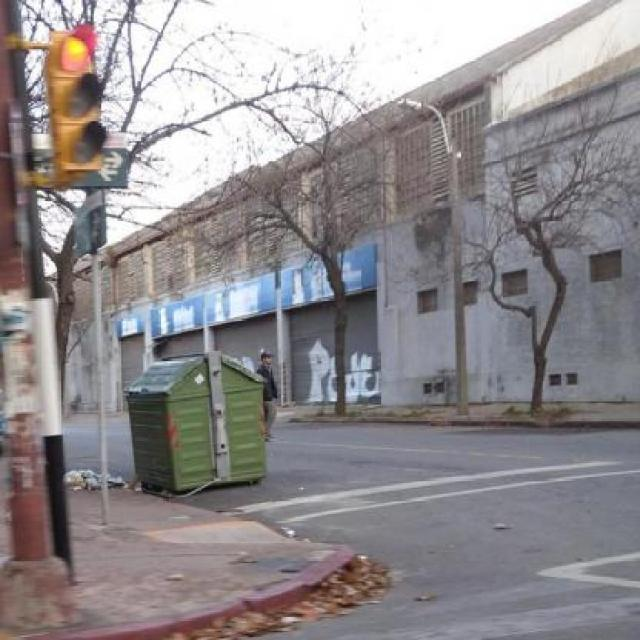garbage: (185, 543, 428, 632), (62, 470, 142, 509)
